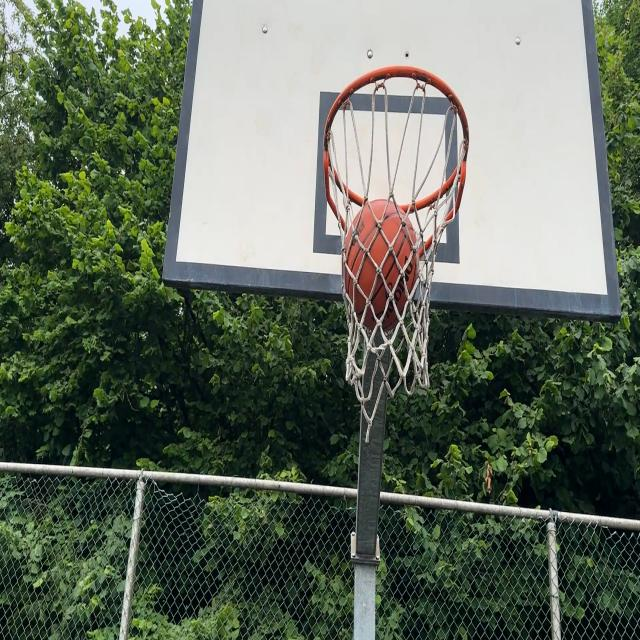Goal: (341, 201, 419, 333)
